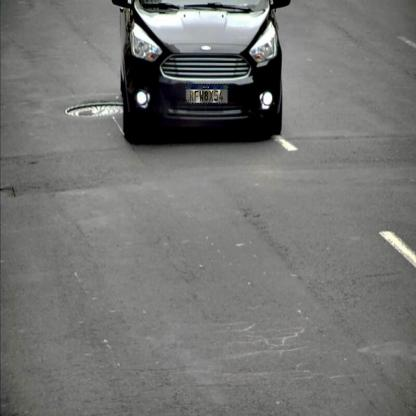PlacaM: (185, 84, 228, 104)
